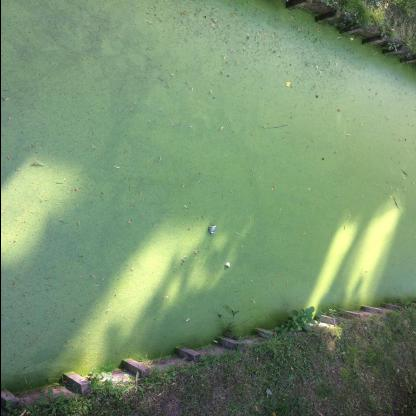metal: (208, 225, 216, 235)
